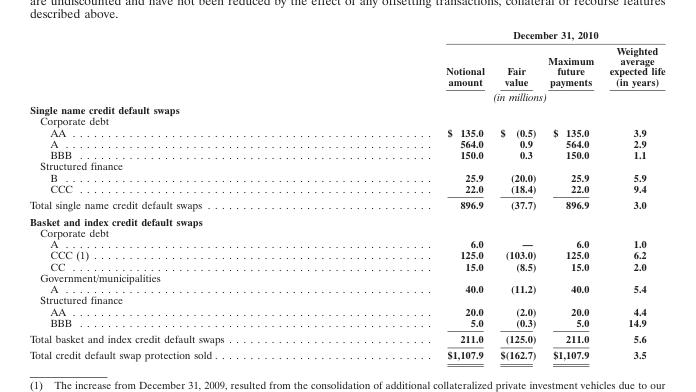table: (28, 28, 664, 361)
table column: (28, 28, 334, 361), (334, 28, 491, 361), (600, 28, 664, 361), (541, 28, 600, 361), (491, 28, 541, 361)
table column header: (28, 28, 664, 103)
table projected row header: (28, 212, 664, 226), (28, 103, 664, 115), (28, 115, 664, 126), (28, 160, 664, 171), (28, 226, 664, 237), (28, 271, 664, 282), (28, 294, 664, 305)
table row: (28, 42, 664, 88), (28, 196, 664, 212), (28, 330, 664, 346), (28, 88, 664, 103), (28, 346, 664, 361), (28, 28, 664, 42), (28, 182, 664, 196), (28, 212, 664, 226), (28, 316, 664, 330), (28, 103, 664, 115), (28, 148, 664, 160), (28, 237, 664, 249), (28, 282, 664, 294), (28, 115, 664, 126), (28, 126, 664, 137), (28, 137, 664, 148), (28, 160, 664, 171), (28, 171, 664, 182), (28, 226, 664, 237), (28, 249, 664, 260), (28, 260, 664, 271), (28, 271, 664, 282), (28, 294, 664, 305), (28, 305, 664, 316)
table spanning cell: (334, 28, 664, 42), (334, 88, 600, 103), (600, 42, 664, 103)
